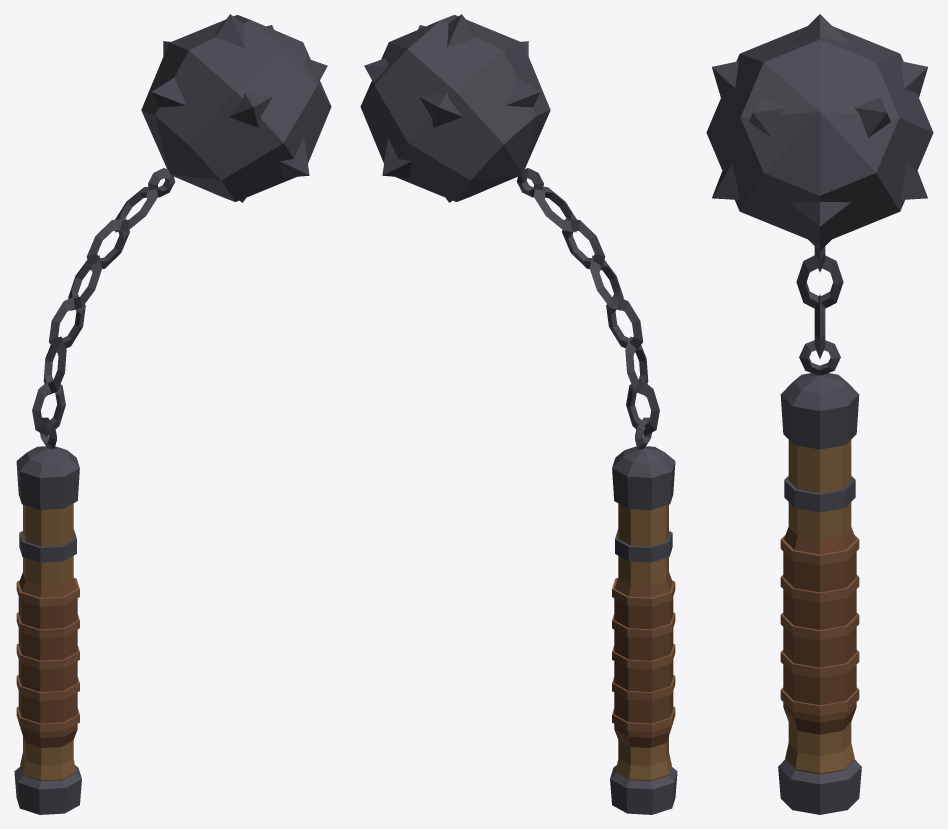
The model's file is weapon_flail_ball.glb.
The picture shows the model from 3 angles, left to right: view 1: azimuth 30°, elevation 25°; view 2: azimuth 150°, elevation 25°; view 3: azimuth 270°, elevation 25°; orthographic projection. The views are drawn at different scales.
Visible parts, largest first — view 1: weapon_flail_ball_ball, weapon_flail_ball, weapon_flail_ball_chain, weapon_flail_ball_link; view 2: weapon_flail_ball_ball, weapon_flail_ball, weapon_flail_ball_chain, weapon_flail_ball_link; view 3: weapon_flail_ball_ball, weapon_flail_ball, weapon_flail_ball_chain, weapon_flail_ball_link.
Boxes of the visible parts, box(x1,y1,x2,y2) form: weapon_flail_ball_ball: box(141, 14, 331, 202); weapon_flail_ball: box(14, 417, 81, 814); weapon_flail_ball_chain: box(43, 186, 157, 394); weapon_flail_ball_link: box(32, 379, 65, 436); weapon_flail_ball_ball: box(360, 14, 550, 202); weapon_flail_ball: box(610, 417, 677, 814); weapon_flail_ball_chain: box(534, 186, 648, 394); weapon_flail_ball_link: box(626, 379, 659, 436); weapon_flail_ball_ball: box(706, 14, 933, 250); weapon_flail_ball: box(778, 340, 861, 814); weapon_flail_ball_chain: box(796, 246, 843, 308); weapon_flail_ball_link: box(814, 294, 825, 358).
Size of the model in its own units: 0.4803 by 1.13 by 0.26.
